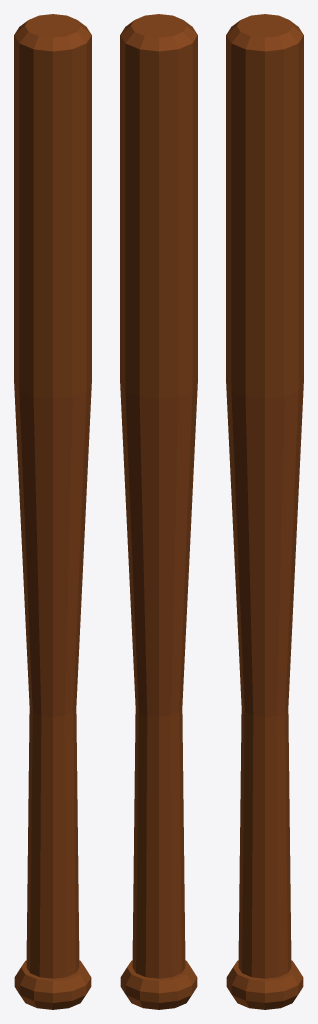
Rendered from baseballBat.fbx.
3 renders of one model, left to right at view 1: azimuth 90°, elevation 25°; view 2: azimuth 150°, elevation 25°; view 3: azimuth 330°, elevation 25°, orthographic.
Parts seen in each view (by area): view 1: Cylinder; view 2: Cylinder; view 3: Cylinder.
Boxes of the visible parts, x1,y1,x2,y2 form: Cylinder: (14,14,91,1009); Cylinder: (120,14,197,1009); Cylinder: (226,14,303,1009).
Bounding box in the file's own units: 7.45 × 103 × 7.45.
